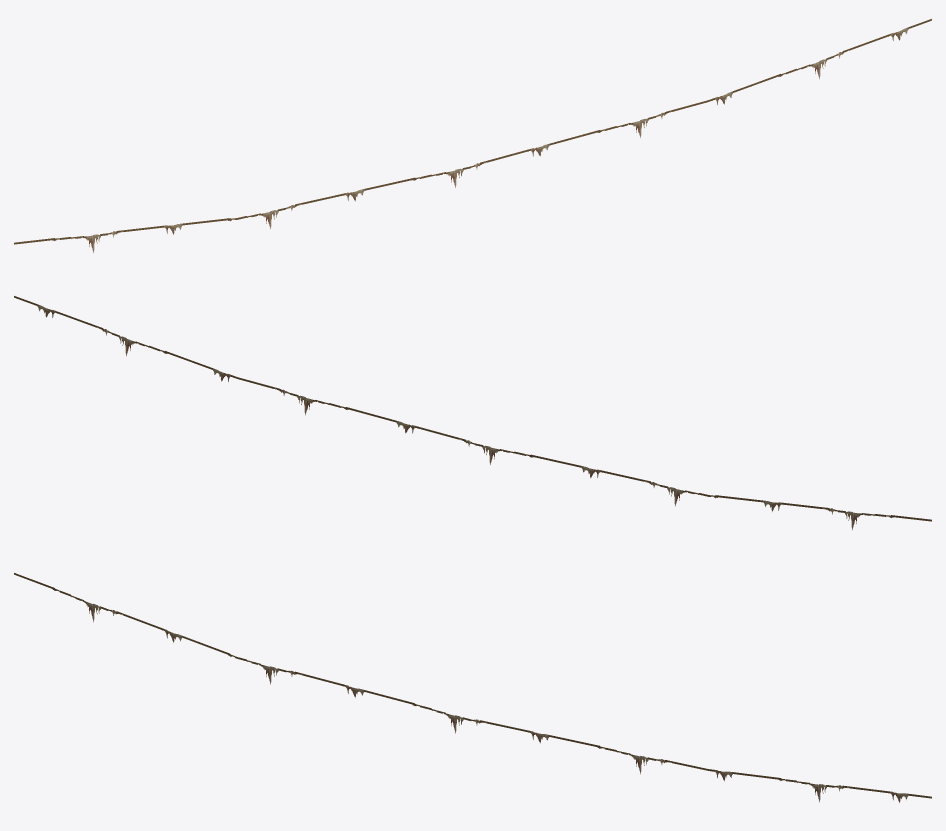
File: w_cd_ravi_gorge04_01.glb
The picture shows the model from 3 angles, top to bottom: view 1: azimuth 30°, elevation 25°; view 2: azimuth 150°, elevation 25°; view 3: azimuth 330°, elevation 25°; orthographic projection.
Parts seen in each view (by area): view 1: W_CD_ravi_gorge04_01; view 2: W_CD_ravi_gorge04_01; view 3: W_CD_ravi_gorge04_01.
Part boxes in pixels (x1,y1,x2,y2): W_CD_ravi_gorge04_01: [14, 19, 931, 253]; W_CD_ravi_gorge04_01: [14, 296, 931, 530]; W_CD_ravi_gorge04_01: [14, 573, 931, 802].
Bounding box in the file's own units: 108 × 6.53 × 2.85e-07.
1 material, 1 textured.
